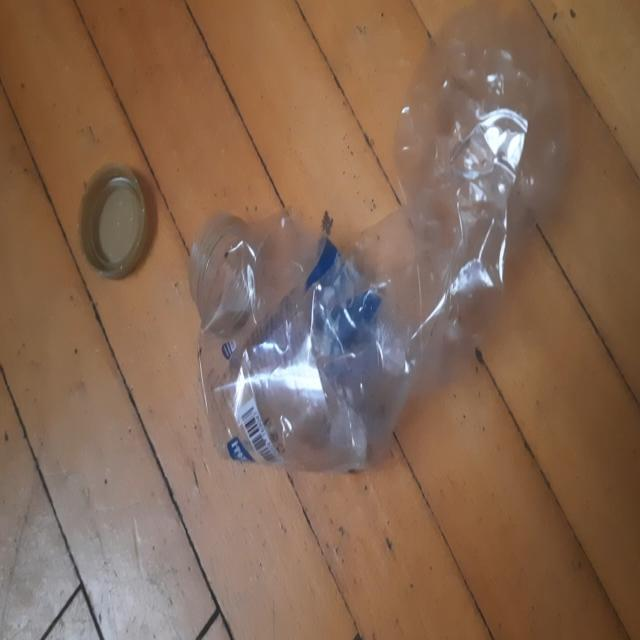Plastic: (196, 6, 558, 474)
